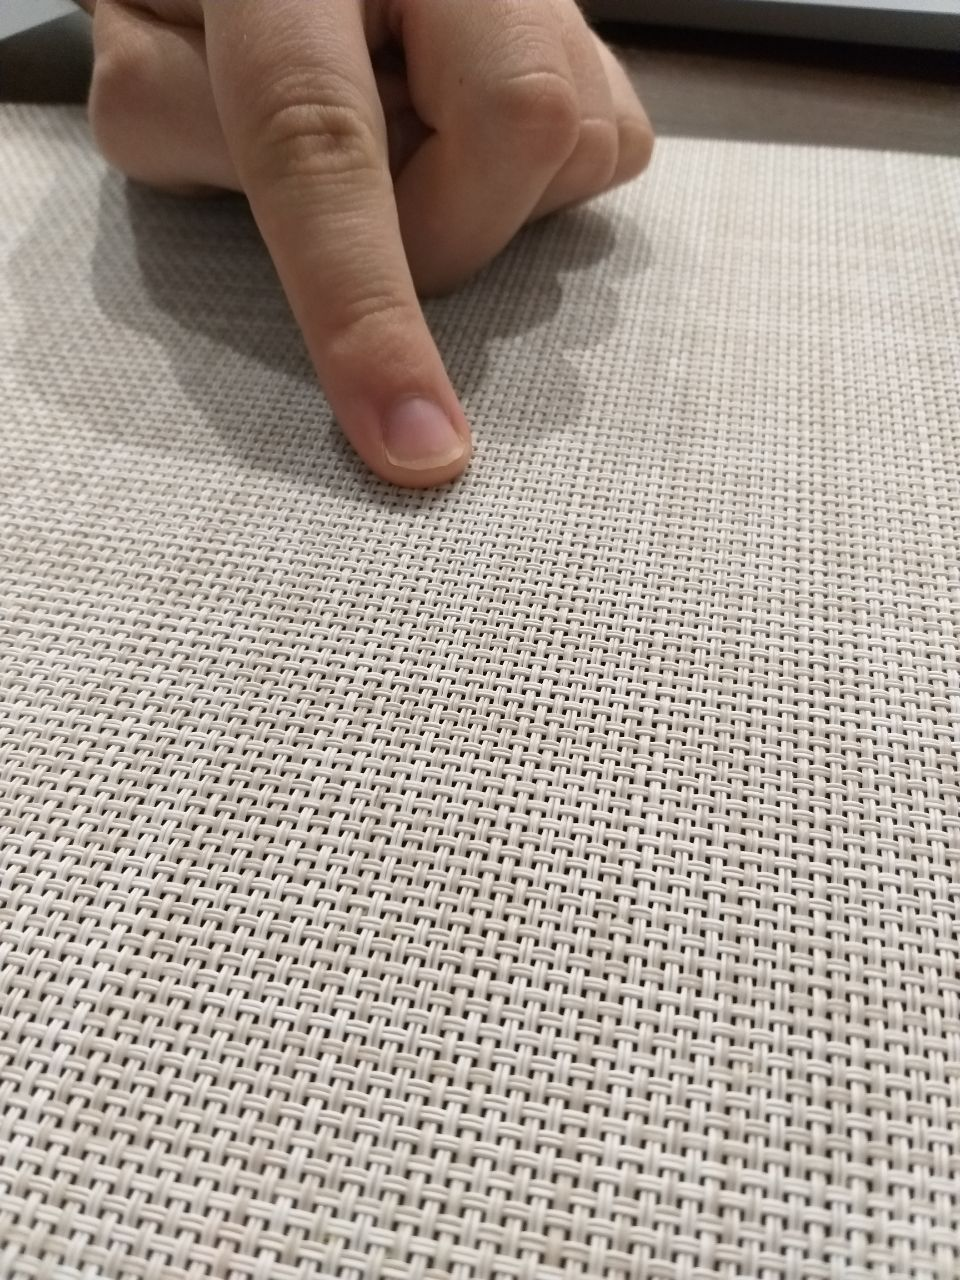finger: (332, 355, 469, 486)
